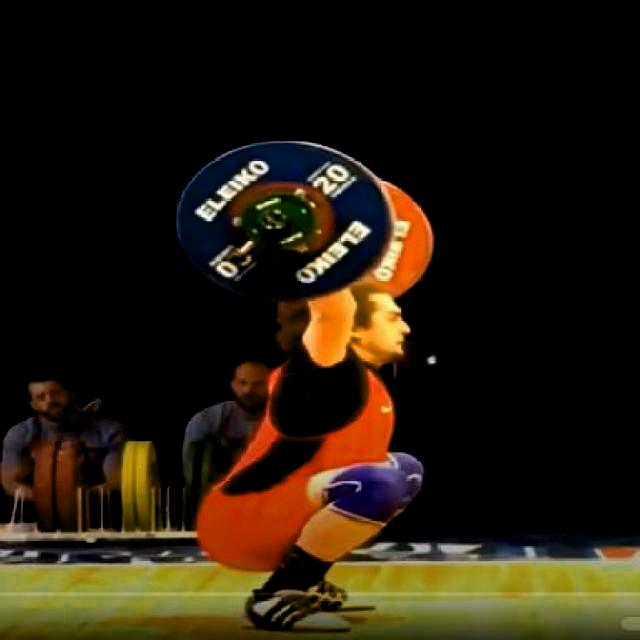barbell: (172, 133, 400, 306)
